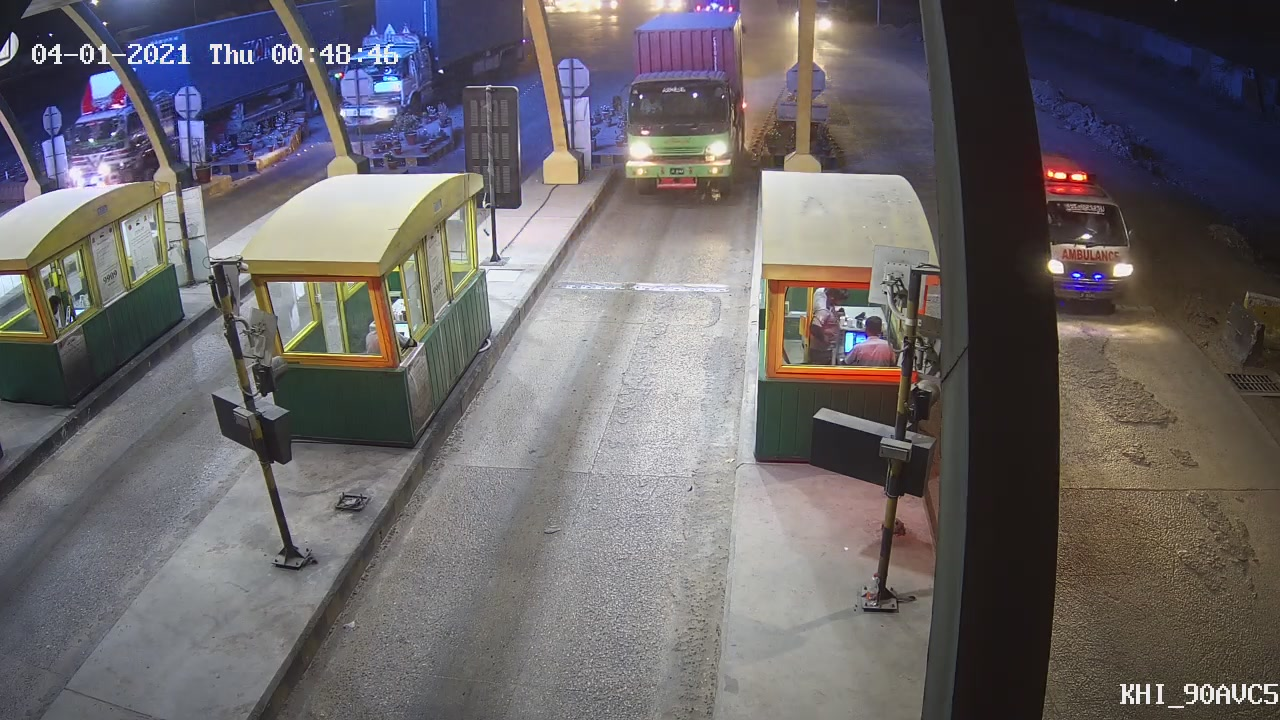F5: (603, 7, 758, 205)
